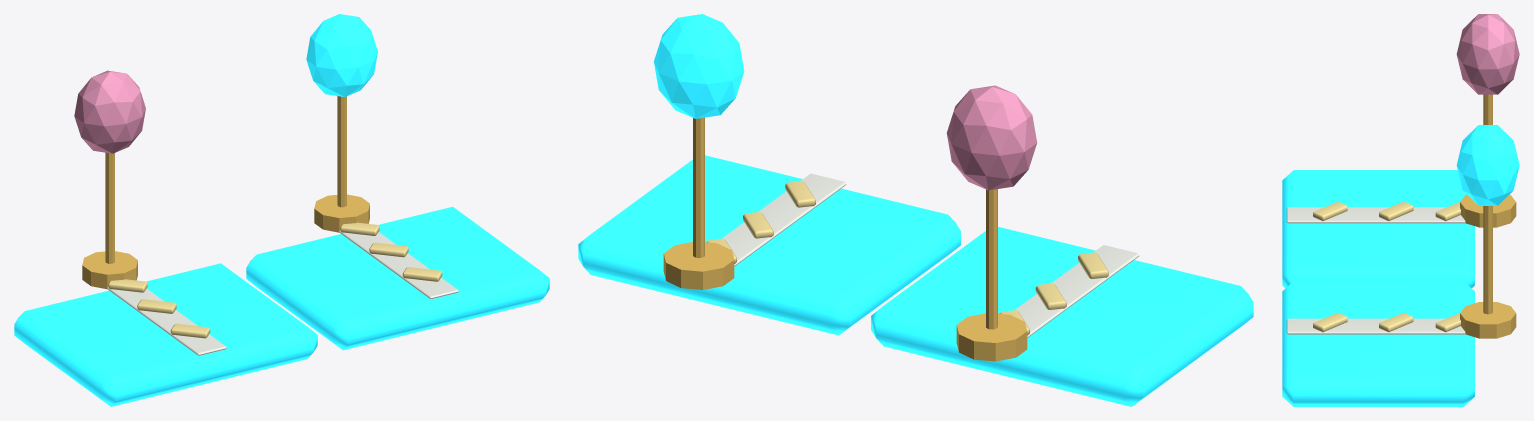
The model's file is acrobacias_balizas_r2.glb.
3 renders of one model, left to right at view 1: azimuth 30°, elevation 25°; view 2: azimuth 150°, elevation 25°; view 3: azimuth 270°, elevation 25°, orthographic. The views are drawn at different scales.
Parts seen in each view (by area): view 1: Padded runway mat, Padded runway mat.001, Floating balloon.001, Floating balloon, Competition stripe, Competition stripe.001, Beacon base, Beacon base.001, Beacon post, Beacon post.001; view 2: Padded runway mat.001, Padded runway mat, Floating balloon, Floating balloon.001, Competition stripe, Competition stripe.001, Beacon base, Beacon base.001, Beacon post, Beacon post.001; view 3: Padded runway mat.001, Padded runway mat, Floating balloon, Floating balloon.001, Competition stripe, Competition stripe.001, Beacon base.001, Beacon base, Beacon post.001, Raised direction arrow, Raised direction arrow.003, Raised direction arrow.004 (+4 smaller).
Boxes of the visible parts, x1=… form: Padded runway mat: x1=14, y1=263, x2=317, y2=406; Padded runway mat.001: x1=246, y1=206, x2=549, y2=350; Floating balloon.001: x1=306, y1=14, x2=377, y2=96; Floating balloon: x1=74, y1=70, x2=145, y2=153; Competition stripe: x1=107, y1=287, x2=226, y2=355; Competition stripe.001: x1=339, y1=230, x2=458, y2=299; Beacon base: x1=82, y1=251, x2=137, y2=289; Beacon base.001: x1=314, y1=194, x2=369, y2=232; Beacon post: x1=105, y1=152, x2=114, y2=263; Beacon post.001: x1=337, y1=96, x2=346, y2=207; Padded runway mat.001: x1=578, y1=155, x2=960, y2=335; Padded runway mat: x1=871, y1=227, x2=1253, y2=406; Floating balloon: x1=946, y1=85, x2=1037, y2=190; Floating balloon.001: x1=654, y1=14, x2=744, y2=118; Competition stripe: x1=1015, y1=245, x2=1139, y2=337; Competition stripe.001: x1=722, y1=173, x2=846, y2=266; Beacon base: x1=956, y1=313, x2=1027, y2=361; Beacon base.001: x1=663, y1=242, x2=734, y2=289; Beacon post: x1=986, y1=189, x2=997, y2=329; Beacon post.001: x1=693, y1=117, x2=704, y2=257; Padded runway mat.001: x1=1282, y1=281, x2=1474, y2=406; Padded runway mat: x1=1282, y1=170, x2=1474, y2=288; Floating balloon: x1=1456, y1=14, x2=1519, y2=94; Floating balloon.001: x1=1456, y1=125, x2=1519, y2=205; Competition stripe: x1=1286, y1=207, x2=1465, y2=223; Competition stripe.001: x1=1286, y1=318, x2=1465, y2=334; Beacon base.001: x1=1460, y1=302, x2=1516, y2=338; Beacon base: x1=1460, y1=194, x2=1516, y2=227; Beacon post.001: x1=1483, y1=206, x2=1492, y2=314; Raised direction arrow: x1=1313, y1=201, x2=1347, y2=221; Raised direction arrow.003: x1=1313, y1=313, x2=1347, y2=332; Raised direction arrow.004: x1=1379, y1=312, x2=1413, y2=332.
Size of the model in its own units: 5.8 by 2.95 by 2.71.
